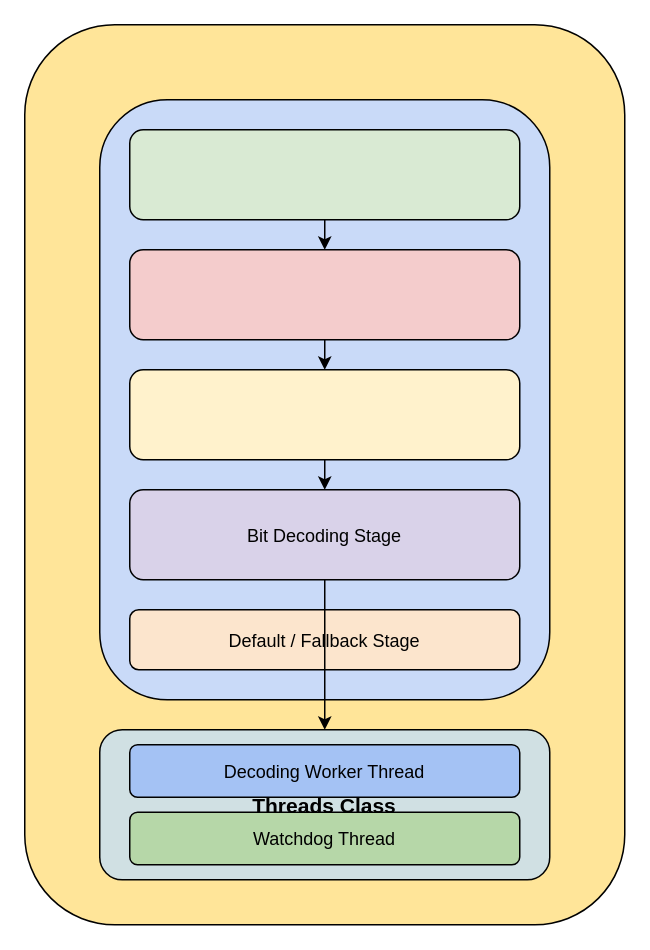
The diagram is 650 pixels wide and 950 high, and some of its shapes have lost their labels. The shapes that lost their labels are listed below. From the top down, each one's centre as x and y in pixels, then its label:
At point (324, 174): "ArUco Sync Stage".
At point (324, 294): "Color Calibration Stage".
At point (324, 414): "Syncing Stage".
